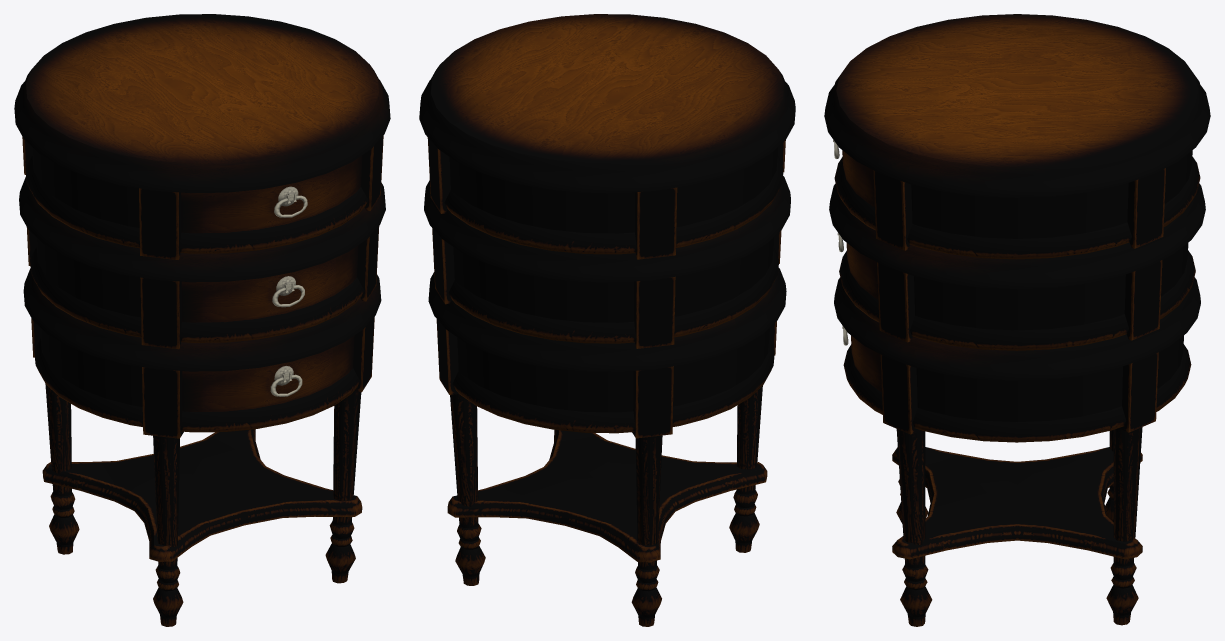
Rendered from Table_v3.fbx.
The picture shows the model from 3 angles, left to right: view 1: azimuth 30°, elevation 25°; view 2: azimuth 150°, elevation 25°; view 3: azimuth 270°, elevation 25°; orthographic projection. The views are drawn at different scales.
Parts seen in each view (by area): view 1: endtable1 top _low.006; view 2: endtable1 top _low.006; view 3: endtable1 top _low.006.
Part boxes in pixels (box(x1,y1,x2,y2)): endtable1 top _low.006: box(14, 14, 390, 626); endtable1 top _low.006: box(419, 14, 795, 626); endtable1 top _low.006: box(824, 14, 1210, 626).
Size of the model in its own units: 0.5536 by 0.7773 by 0.5536.
